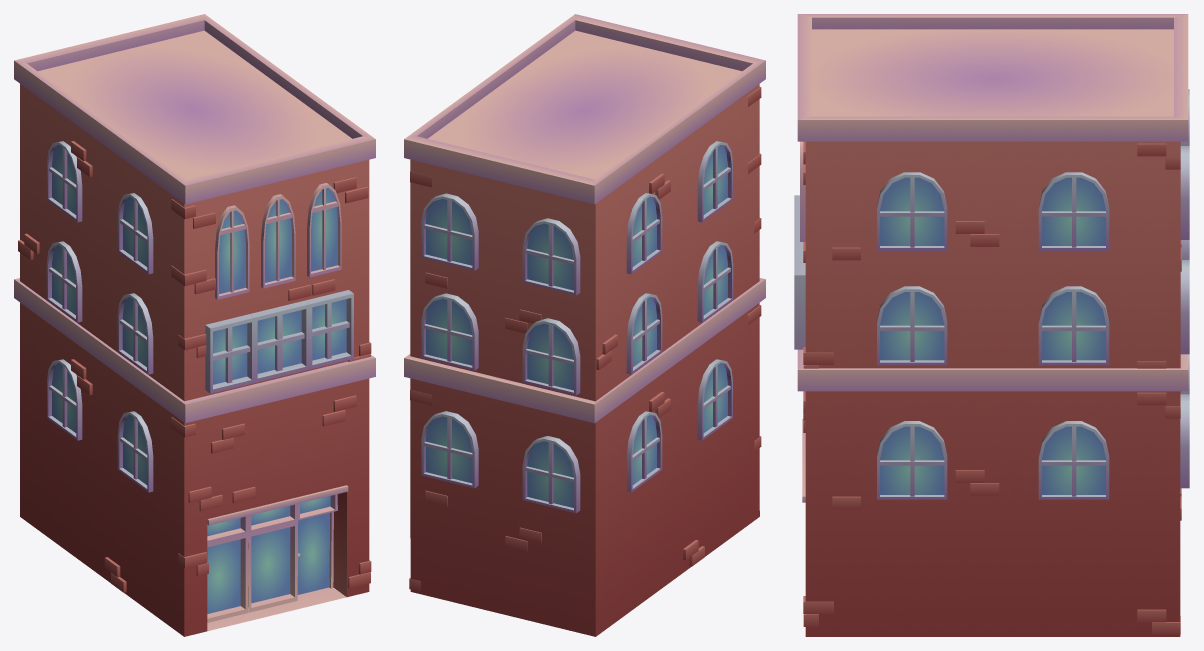
3 views of the same model, side by side, from view 1: azimuth 30°, elevation 25°; view 2: azimuth 150°, elevation 25°; view 3: azimuth 270°, elevation 25° (orthographic). The views are drawn at different scales.
Parts seen in each view (by area): view 1: SM_4F_09; view 2: SM_4F_09; view 3: SM_4F_09.
Boxes of the visible parts, <box> form: SM_4F_09: <box>14,14,375,636</box>; SM_4F_09: <box>404,14,765,636</box>; SM_4F_09: <box>794,14,1189,636</box>.
Bounding box in the file's own units: 6.01 × 9.26 × 13.41.
